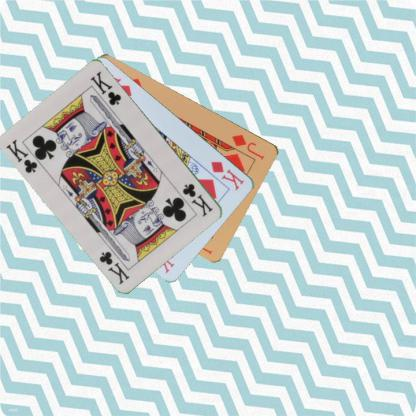Jd: (229, 131, 266, 161)
Kc: (4, 136, 39, 174), (180, 180, 214, 218)
Kd: (209, 158, 246, 192)
